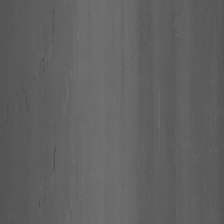silk_spot: (35, 9, 63, 67), (56, 62, 75, 131), (40, 142, 68, 185), (60, 177, 81, 224)
